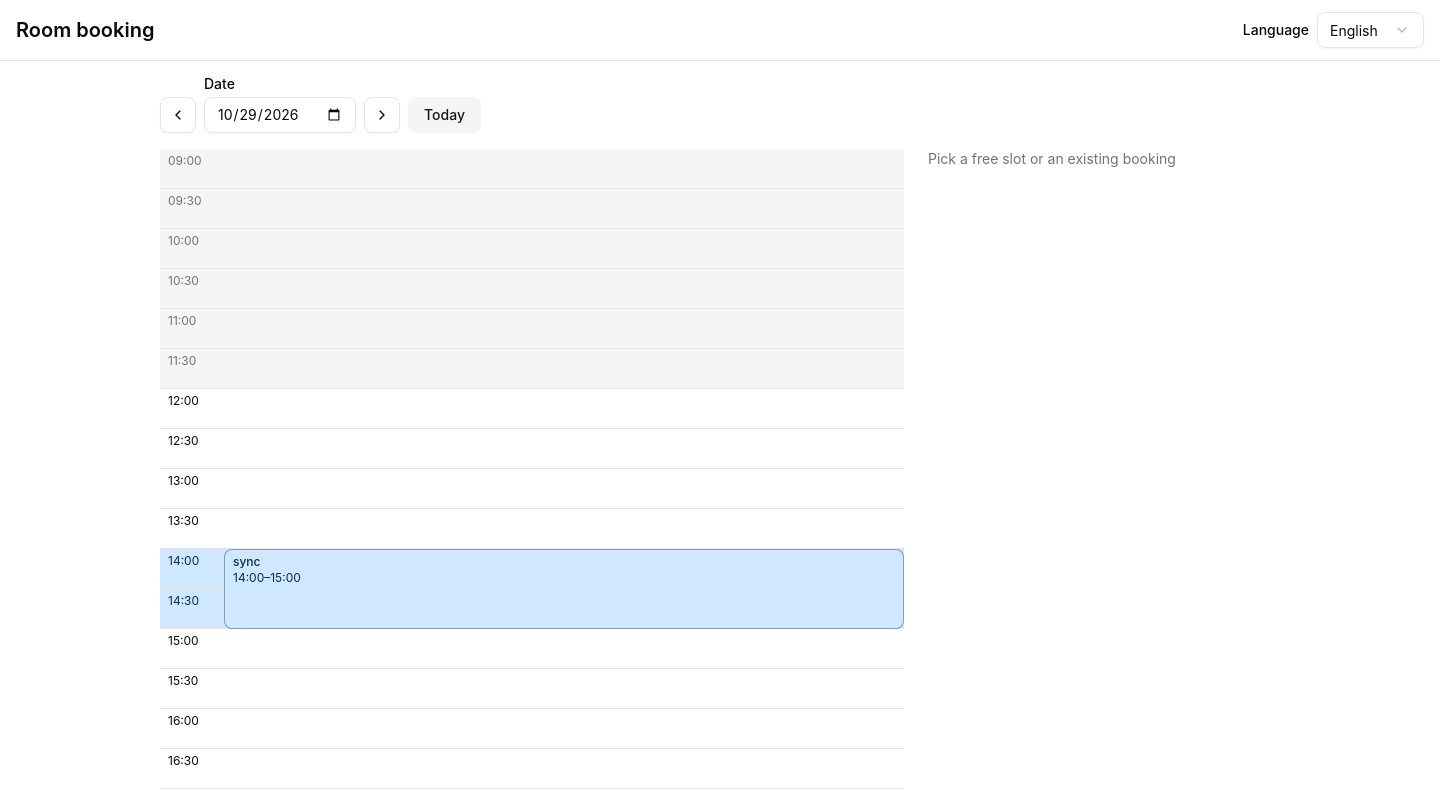
Scenario: BookingScreen › editing a booking › saves the changes and shows the updated booking
Click the button with aria-label "sync, 14:00–15:00". click: (267, 578)
box: left=224, top=549, right=904, bottom=629
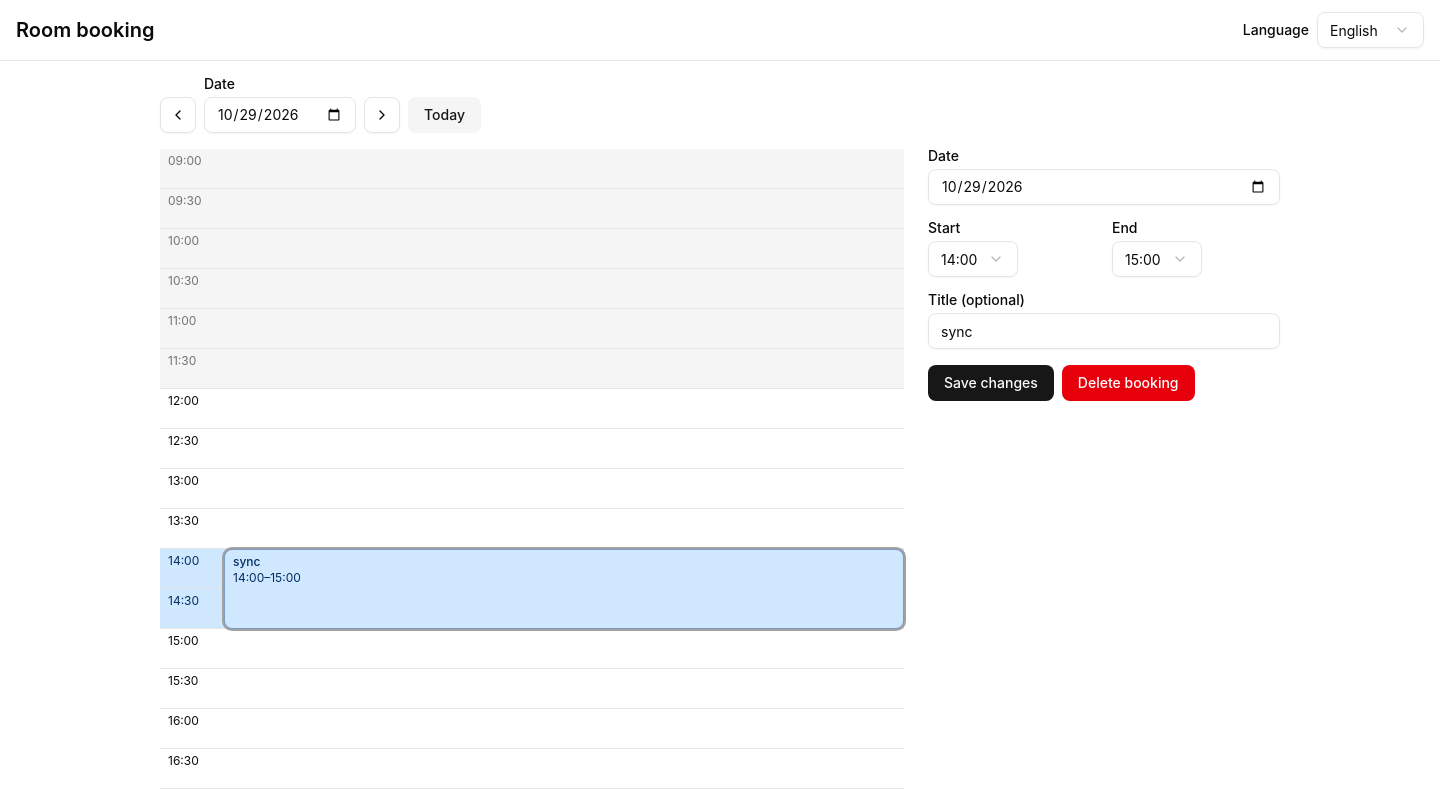
Replace the text in the field labelled "Title (optional)" with "planning". click: (1104, 331)
box: left=928, top=313, right=1280, bottom=349
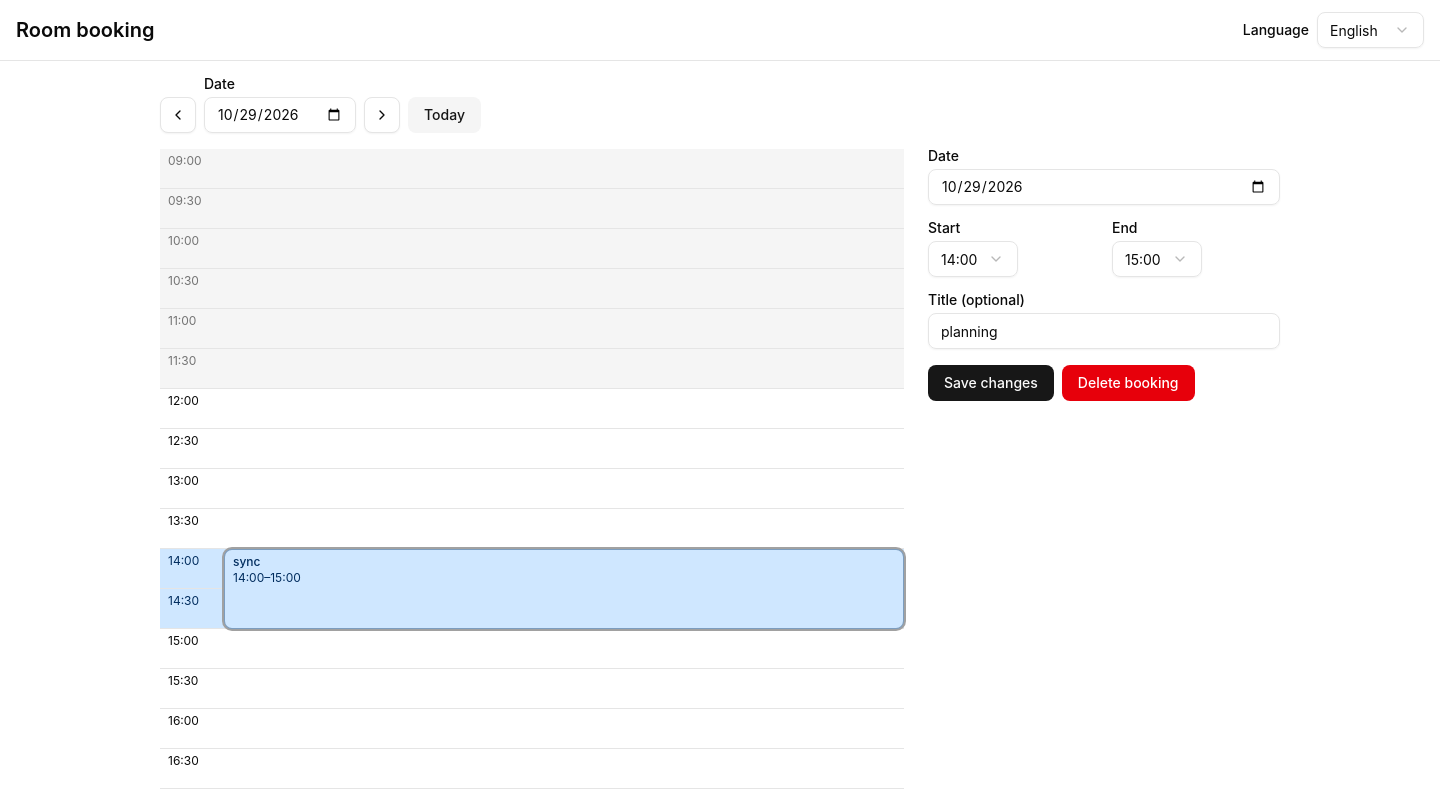
Click the button "Save changes". click: (991, 383)
box: left=928, top=365, right=1054, bottom=401
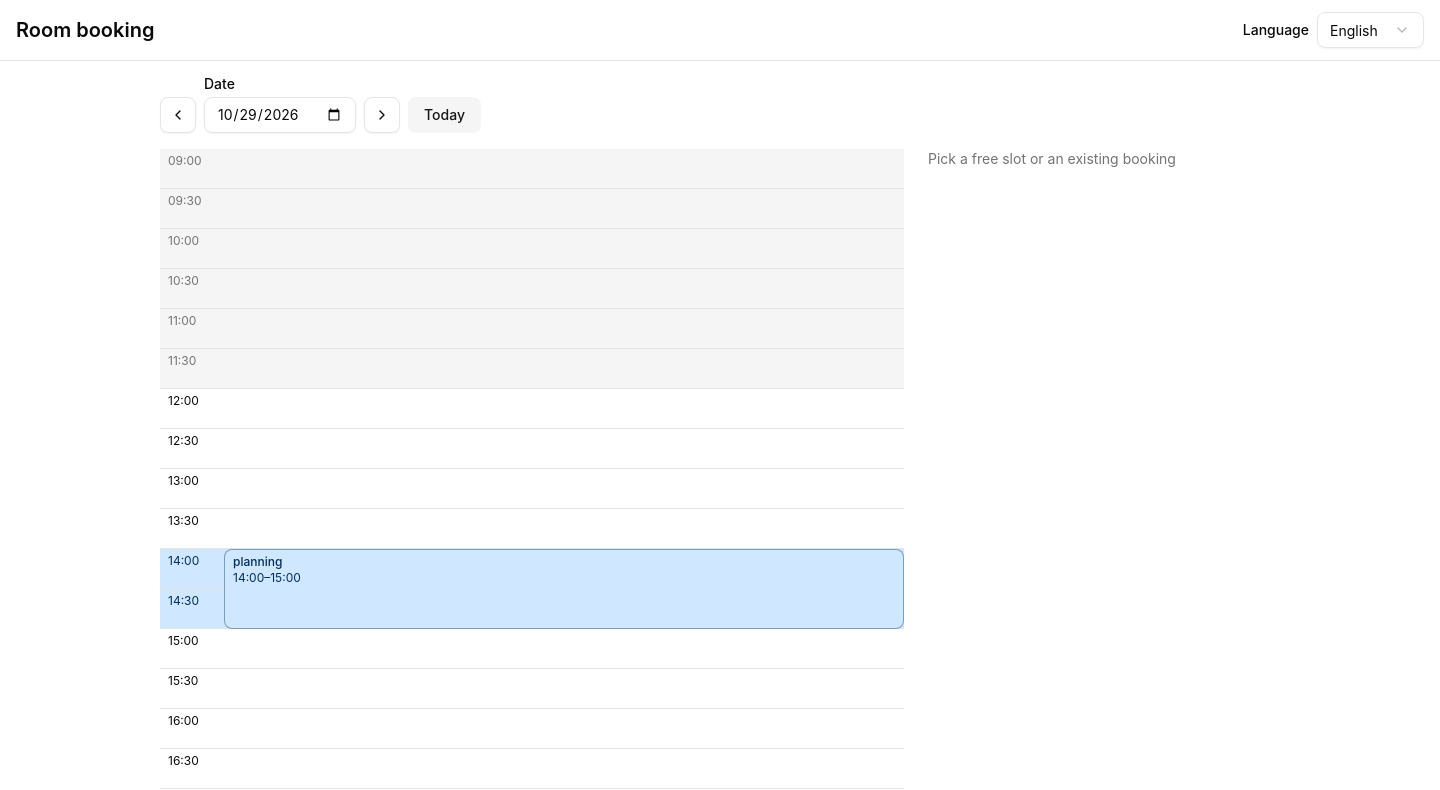
Expected: the button with aria-label "planning, 14:00–15:00" is shown, left=224, top=549, right=904, bottom=629
